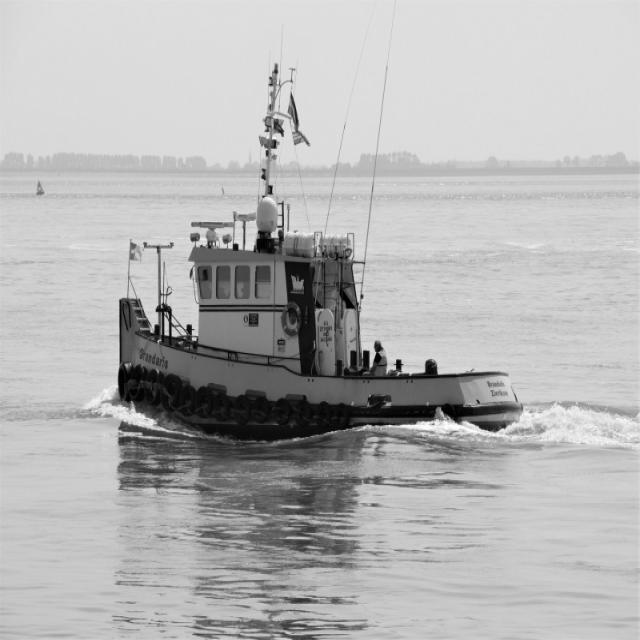tugboat: (114, 61, 528, 457)
